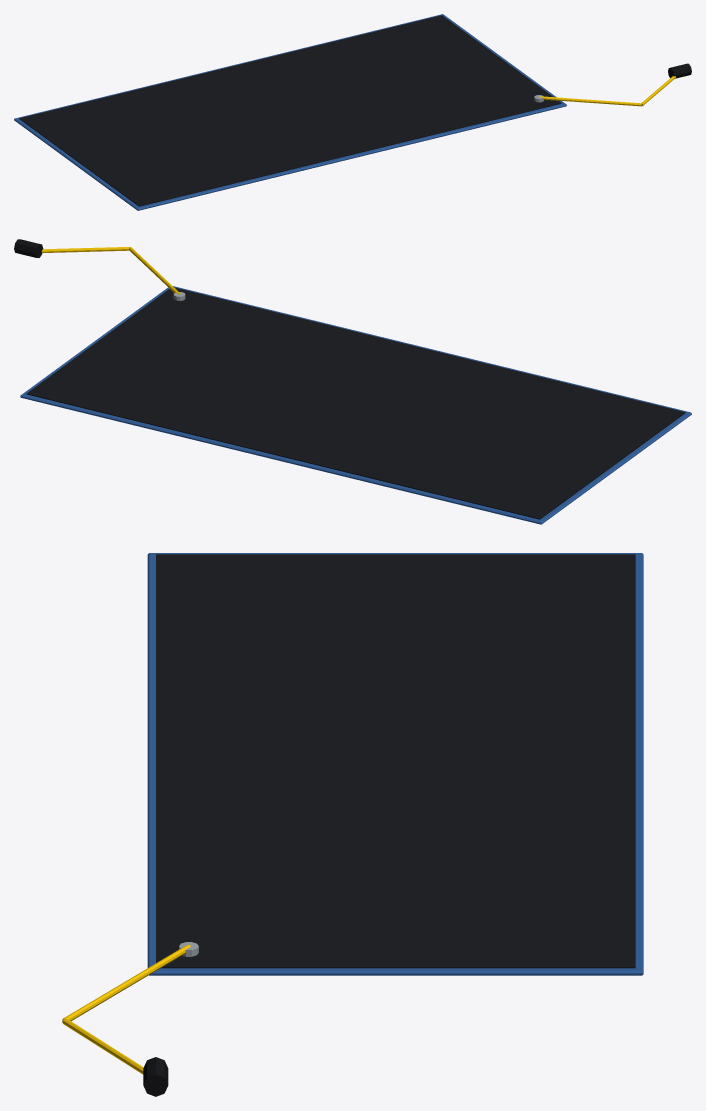
Rendered from 50_Anti_Static_Mat.fbx.
3 views of the same model, one above another, from view 1: azimuth 30°, elevation 25°; view 2: azimuth 150°, elevation 25°; view 3: azimuth 270°, elevation 25° (orthographic). The views are drawn at different scales.
Parts seen in each view (by area): view 1: 50_Anti_Static_Mat; view 2: 50_Anti_Static_Mat; view 3: 50_Anti_Static_Mat.
Boxes of the visible parts, x1,y1,x2,y2 form: 50_Anti_Static_Mat: [14, 14, 691, 210]; 50_Anti_Static_Mat: [14, 239, 691, 524]; 50_Anti_Static_Mat: [62, 553, 643, 1096].
Size of the model in its own units: 1.55 by 0.03 by 0.7033.
